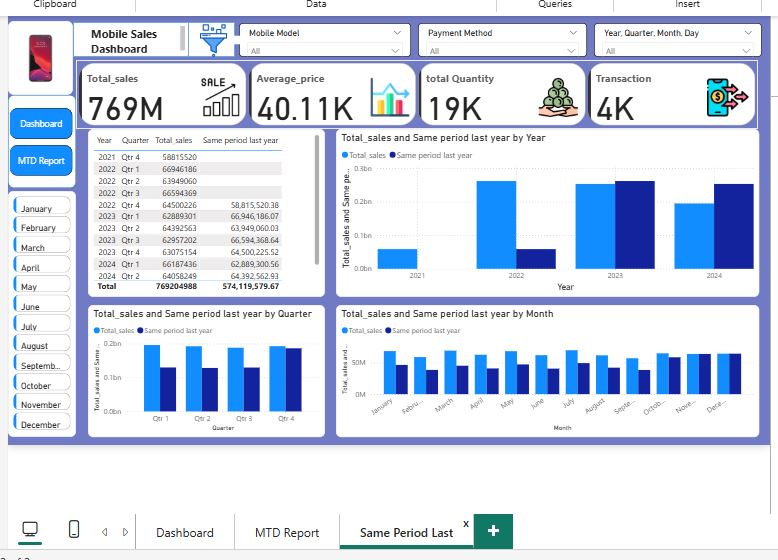

The page's visual inventory and layout, read from the dashboard file:
{"tool":"powerbi","page":{"name":"Same Period Last","canvas":[1280,720],"ordinal":2},"visuals":[{"type":"image","box":[0,8.4,109.2,124.3],"z":0},{"type":"cardVisual","fields":{"Data":["sales_data.Total_sales","sales_data.Average_price","sales_data.total Quantity","sales_data.Transaction"]},"box":[113.8,74.1,1146.6,115.5],"z":1000},{"type":"slicer","fields":{"Values":["sales_data.Mobile Model"]},"box":[388,11.8,288.9,57.1],"z":2000},{"type":"slicer","fields":{"Values":["sales_data.Payment Method"]},"box":[688.7,11.8,283.9,57.1],"z":3000},{"type":"slicer","fields":{"Values":["custom_calender.date.Variation.Date Hierarchy.Year","custom_calender.date.Variation.Date Hierarchy.Quarter","custom_calender.date.Variation.Date Hierarchy.Month","custom_calender.date.Variation.Date Hierarchy.Day"]},"box":[984.4,11.8,282.2,57.1],"z":4000},{"type":"shape","box":[302.4,10.1,79,58.8],"z":5000},{"type":"image","box":[302.4,8.4,85.7,65.5],"z":6000},{"type":"shape","box":[367.9,25.2,38.6,30.2],"z":7000},{"type":"shape","box":[109.2,10.1,193.2,58.8],"z":8000},{"type":"textbox","box":[134.4,11.8,168,55.4],"z":9000},{"type":"advancedSlicerVisual","fields":{"Values":["custom_calender.date.Variation.Date Hierarchy.Month"]},"box":[0,294,114.2,413.2],"z":10000},{"type":"tableEx","fields":{"Values":["custom_calender.date.Variation.Date Hierarchy.Year","custom_calender.date.Variation.Date Hierarchy.Quarter","sales_data.Total_sales","sales_data.Same period last year"]},"box":[134.4,189.8,398.1,282.2],"z":10001},{"type":"clusteredColumnChart","fields":{"Category":["custom_calender.date.Variation.Date Hierarchy.Year","custom_calender.date.Variation.Date Hierarchy.Quarter"],"Y":["sales_data.Total_sales","sales_data.Same period last year"]},"box":[551,189.8,710.6,282.2],"z":10002},{"type":"clusteredColumnChart","fields":{"Category":["custom_calender.date.Variation.Date Hierarchy.Year","custom_calender.date.Variation.Date Hierarchy.Quarter"],"Y":["sales_data.Total_sales","sales_data.Same period last year"]},"box":[134.4,485.5,398.1,221.7],"z":10003},{"type":"clusteredColumnChart","fields":{"Y":["sales_data.Total_sales","sales_data.Same period last year"],"Category":["custom_calender.date.Variation.Date Hierarchy.Year","custom_calender.date.Variation.Date Hierarchy.Quarter","custom_calender.date.Variation.Date Hierarchy.Month","custom_calender.date.Variation.Date Hierarchy.Day"]},"box":[551,485.5,710.6,221.7],"z":10004},{"type":"shape","box":[0,132.7,114.2,156.2],"z":10005},{"type":"pageNavigator","box":[3.4,154.5,105.8,114.2],"z":10006}]}

Visuals, with their boxes on the page's 1280x720 design canvas (x1, y1, x2, y2). These are canvas units, not pixel positions in the 778x560 screenshot, which may show the page scaled, cropped or inside an application window:
image: l=0, t=8, r=109, b=133
cardVisual - sales_data.Total_sales x sales_data.Average_price: l=114, t=74, r=1260, b=190
slicer - sales_data.Mobile Model: l=388, t=12, r=677, b=69
slicer - sales_data.Payment Method: l=689, t=12, r=973, b=69
slicer - custom_calender.date.Variation.Date Hierarchy.Year x custom_calender.date.Variation.Date Hierarchy.Quarter: l=984, t=12, r=1267, b=69
shape: l=302, t=10, r=381, b=69
image: l=302, t=8, r=388, b=74
shape: l=368, t=25, r=406, b=55
shape: l=109, t=10, r=302, b=69
textbox: l=134, t=12, r=302, b=67
advancedSlicerVisual - custom_calender.date.Variation.Date Hierarchy.Month: l=0, t=294, r=114, b=707
tableEx - custom_calender.date.Variation.Date Hierarchy.Year x custom_calender.date.Variation.Date Hierarchy.Quarter: l=134, t=190, r=532, b=472
clusteredColumnChart - custom_calender.date.Variation.Date Hierarchy.Year x custom_calender.date.Variation.Date Hierarchy.Quarter: l=551, t=190, r=1262, b=472
clusteredColumnChart - custom_calender.date.Variation.Date Hierarchy.Year x custom_calender.date.Variation.Date Hierarchy.Quarter: l=134, t=486, r=532, b=707
clusteredColumnChart - sales_data.Total_sales x sales_data.Same period last year: l=551, t=486, r=1262, b=707
shape: l=0, t=133, r=114, b=289
pageNavigator: l=3, t=154, r=109, b=269
